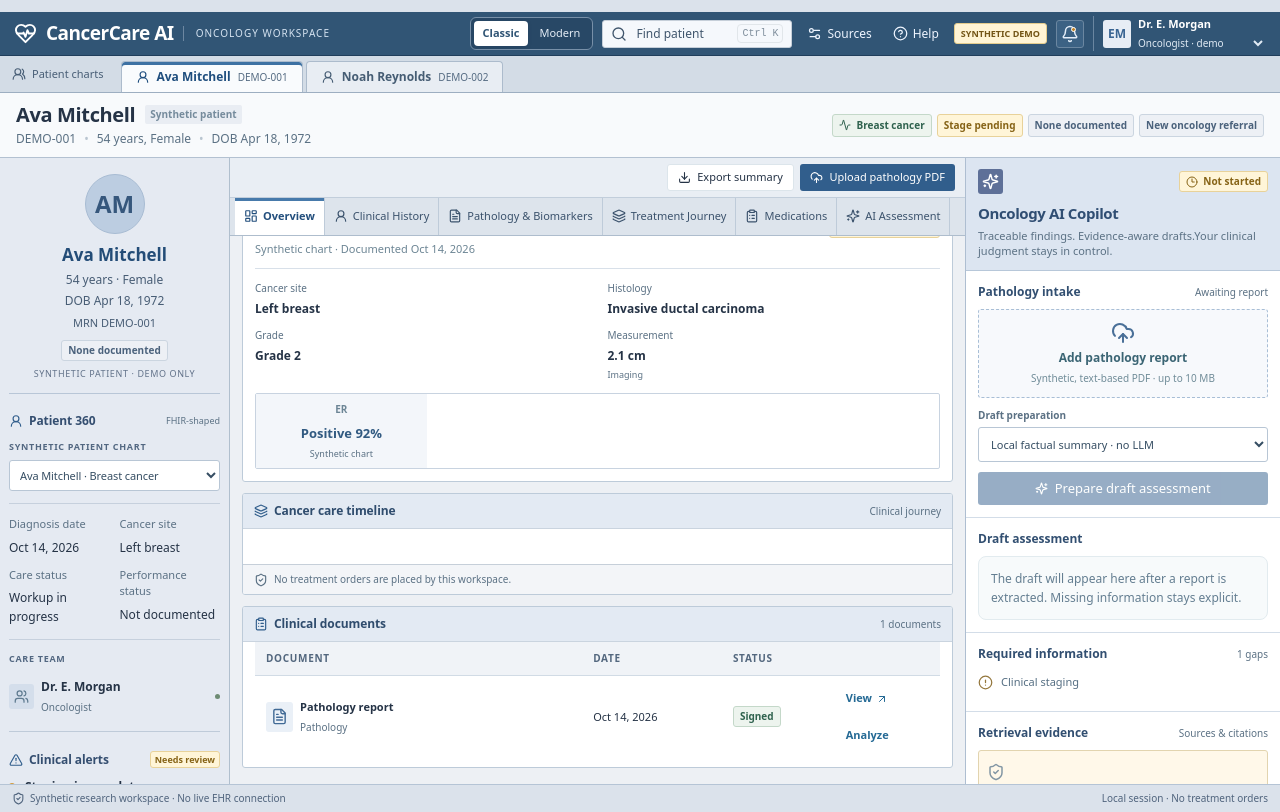
Test: patient workspace isolation and review access › does not apply a stale document after leaving and returning to the same patient
(page scrolled)
Expected: the heading "Ava Mitchell" is shown, [16, 102, 135, 126]
Click the button with aria-label "Analyze Pathology report" at (887, 735), box [846, 722, 929, 748]
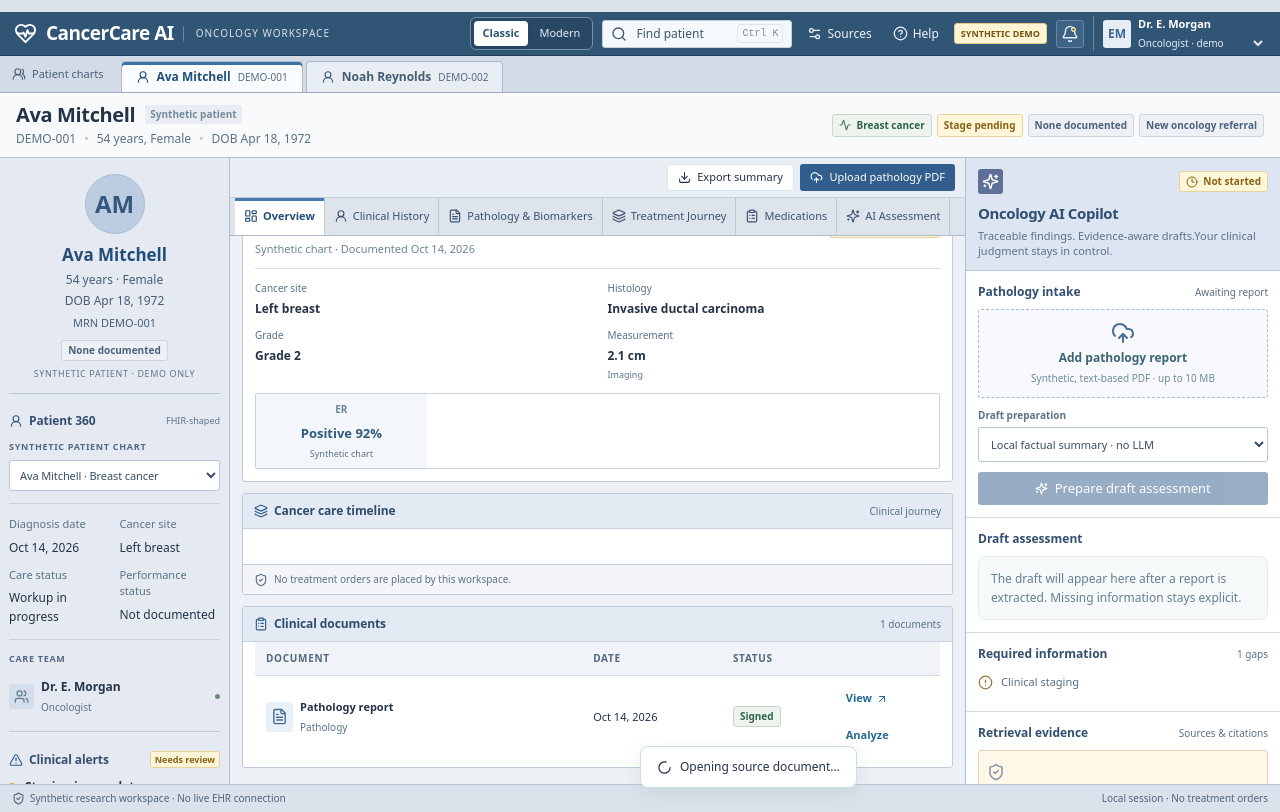
Select "Noah Reynolds · Lung cancer" in the dropdown labelled "Synthetic patient chart" at (114, 476), box [9, 460, 220, 491]
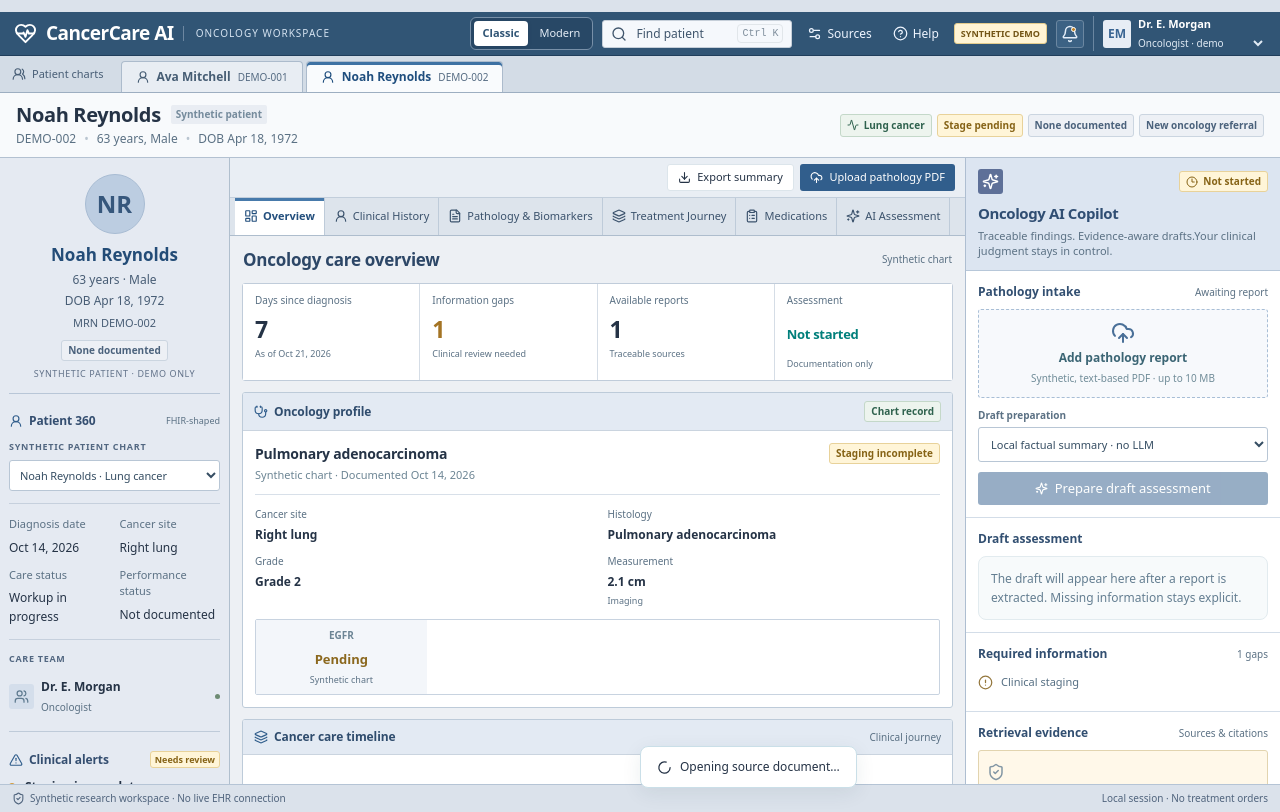
Now the heading "Noah Reynolds" is shown, box [16, 102, 161, 126]
Select "Ava Mitchell · Breast cancer" in the dropdown labelled "Synthetic patient chart" at (114, 476), box [9, 460, 220, 491]
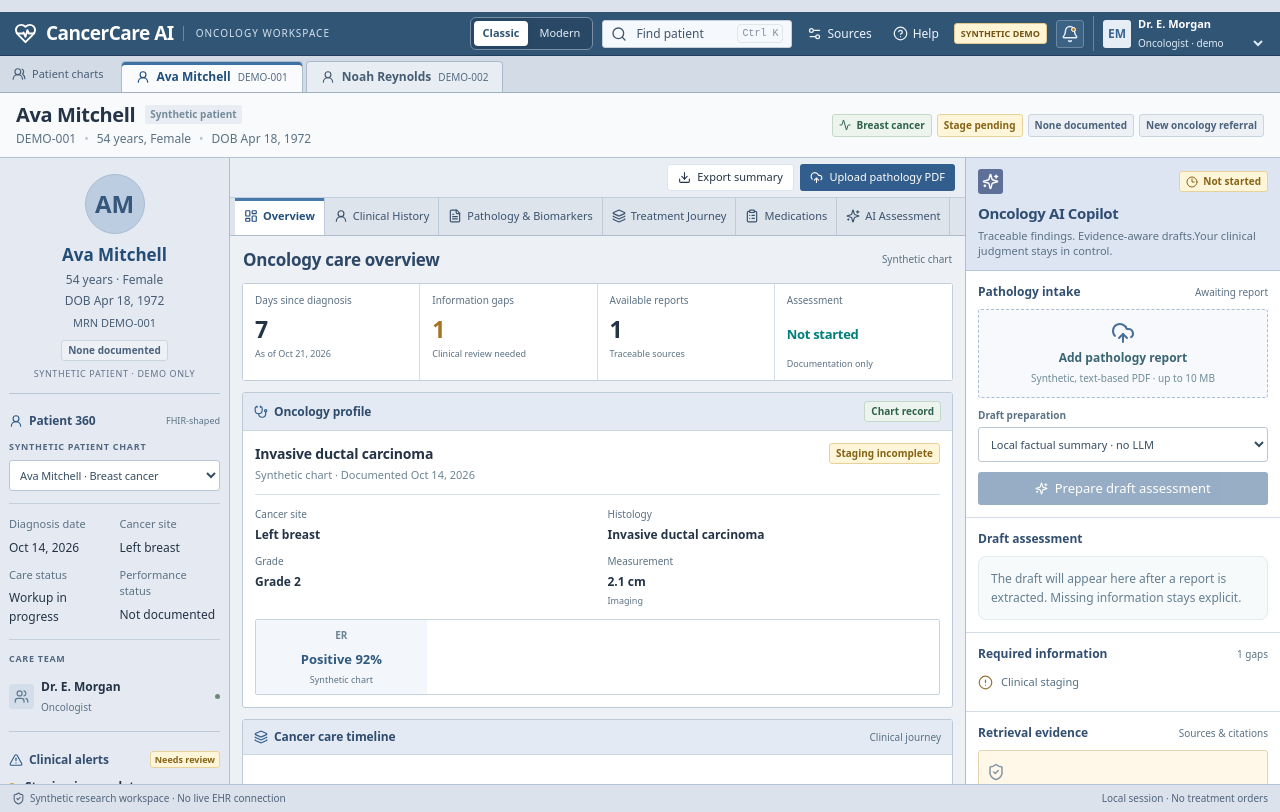
Expected: the text "Awaiting report" is shown, [1195, 285, 1268, 300]
Now the heading "Ava Mitchell" is shown, box [16, 102, 135, 126]
